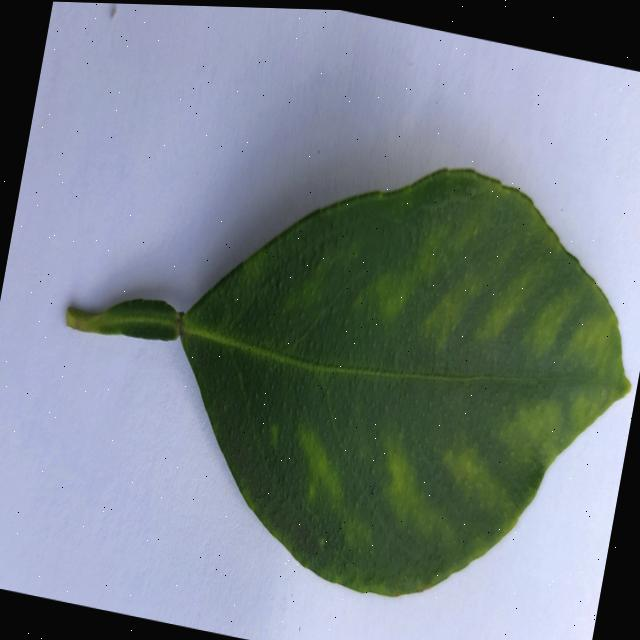greening: (66, 168, 628, 593)
